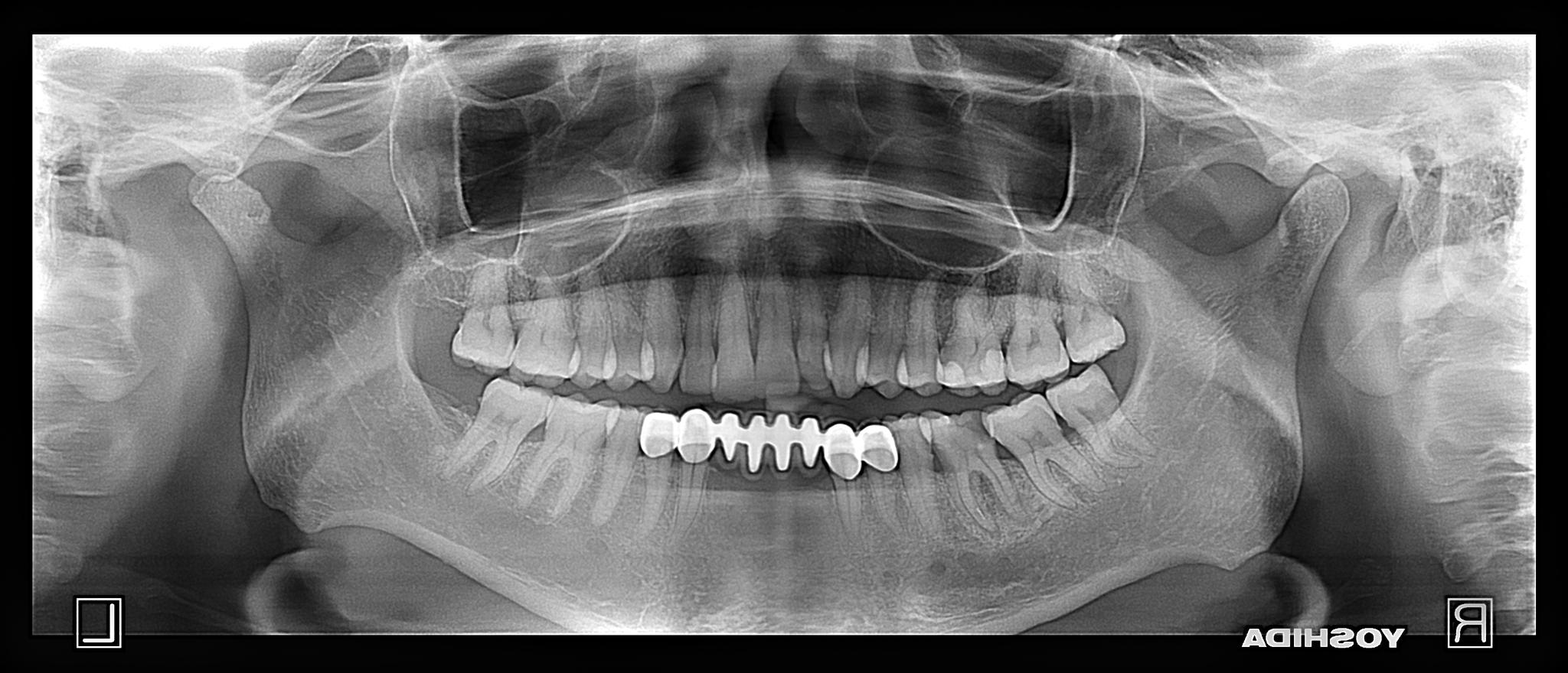Premolars: (506, 245, 1504, 666), (506, 221, 1493, 625)
